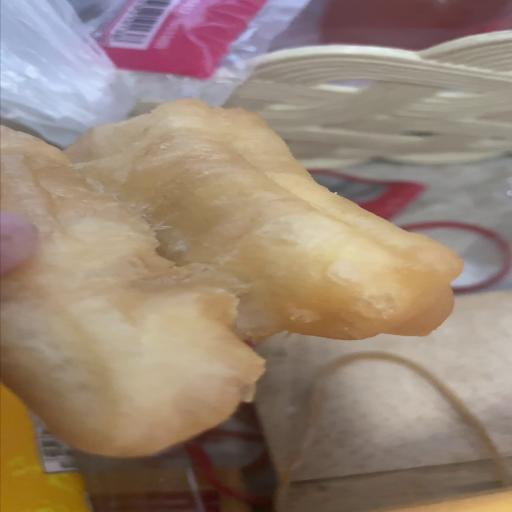street_golden_defect: (0, 100, 461, 457)
